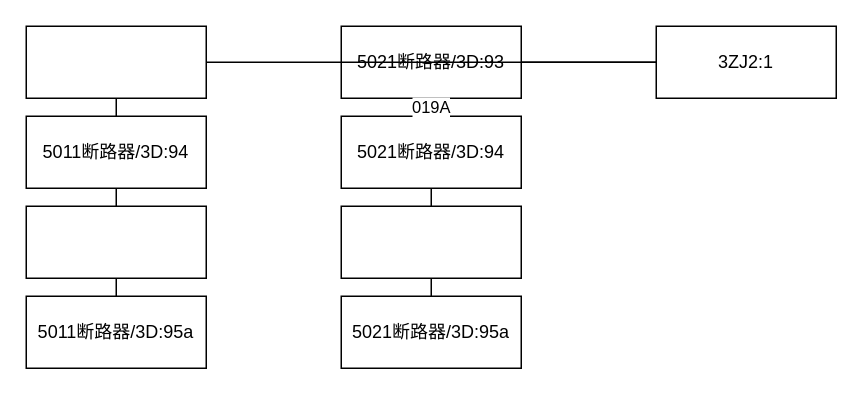
Image size: 863x395. Some labels were removed from this diagram. The centre of each missing label's shape, as x and y in pixels:
5011断路器/3D:93: the point at 115,61
5011断路器/3D:95: the point at 115,241
5021断路器/3D:95: the point at 430,241
